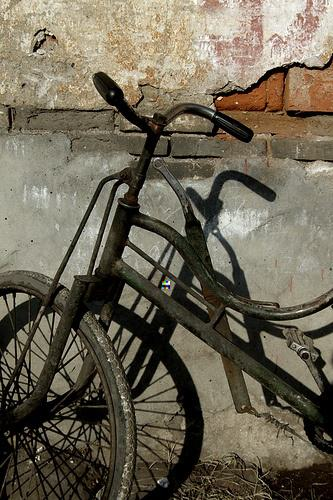car: (1, 72, 332, 499)
